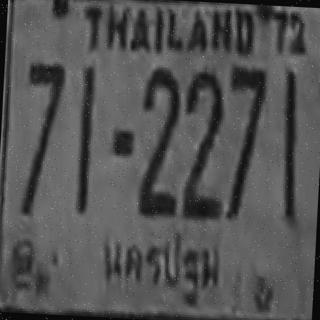N01: (76, 64, 94, 184), (76, 64, 95, 176)
N02: (137, 71, 181, 195), (180, 74, 224, 197), (137, 67, 181, 186), (181, 69, 225, 188), (136, 100, 180, 215), (181, 103, 223, 217)
N07: (225, 65, 266, 171), (24, 62, 65, 158), (226, 64, 266, 161)
P28: (97, 225, 228, 306)
